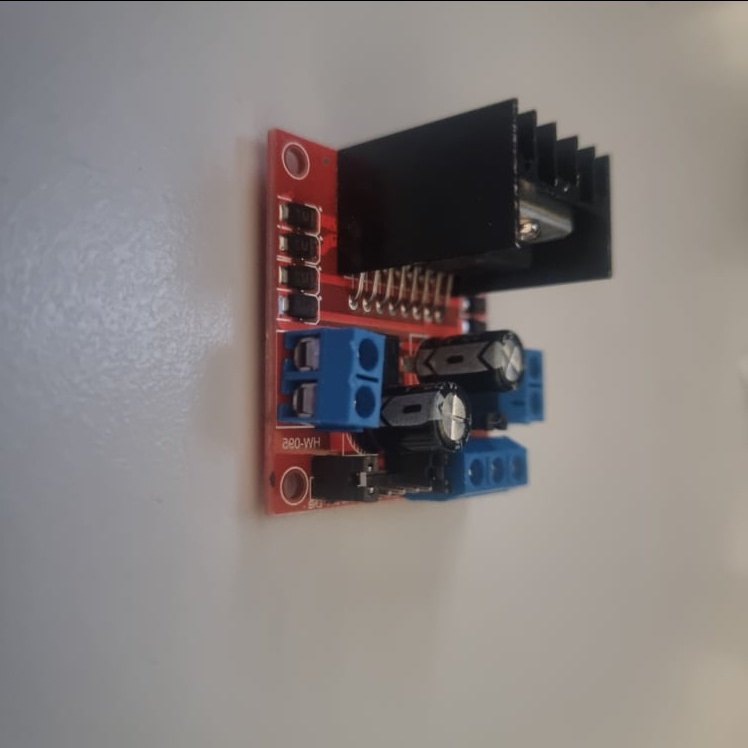MOTOR: (264, 98, 615, 514)
